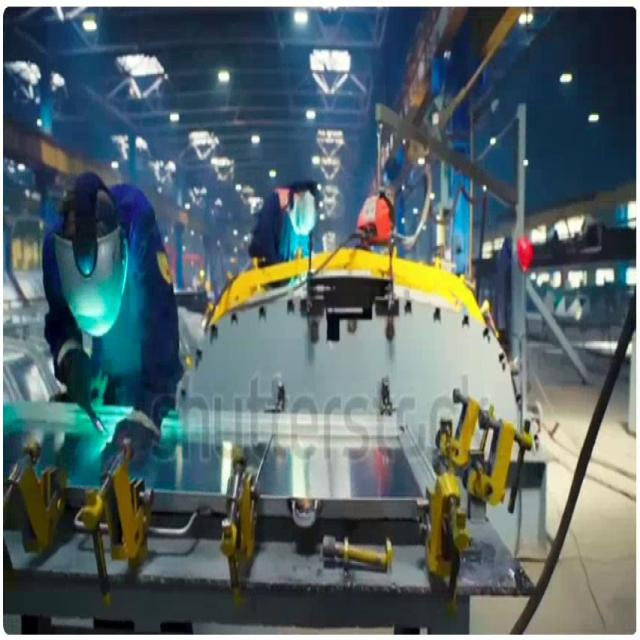gloved: (58, 344, 107, 434), (100, 408, 160, 478)
